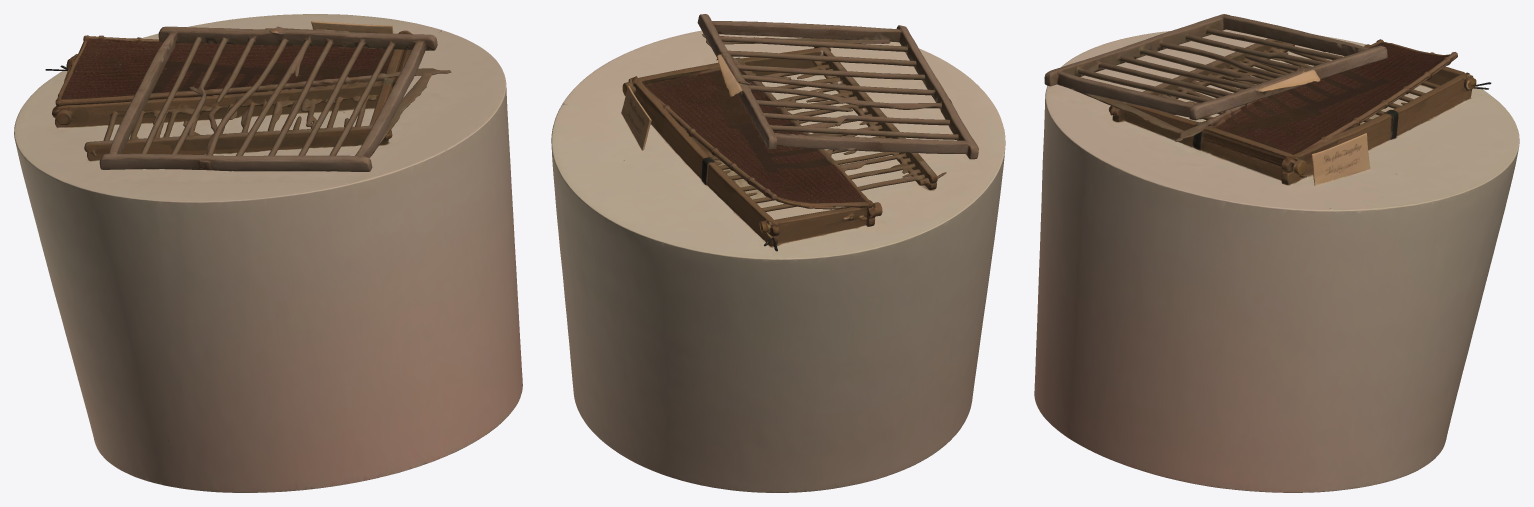
The model's file is woodenmould.fbx.
3 renders of one model, left to right at view 1: azimuth 30°, elevation 25°; view 2: azimuth 150°, elevation 25°; view 3: azimuth 270°, elevation 25°, orthographic. The views are drawn at different scales.
Parts seen in each view (by area): view 1: obj1; view 2: obj1; view 3: obj1.
Part boxes in pixels (x1,y1,x2,y2): obj1: (14, 14, 522, 492); obj1: (551, 14, 1005, 492); obj1: (1034, 14, 1519, 492).
Bounding box in the file's own units: 96.94 × 84.17 × 98.03.
1 material, 1 textured.
